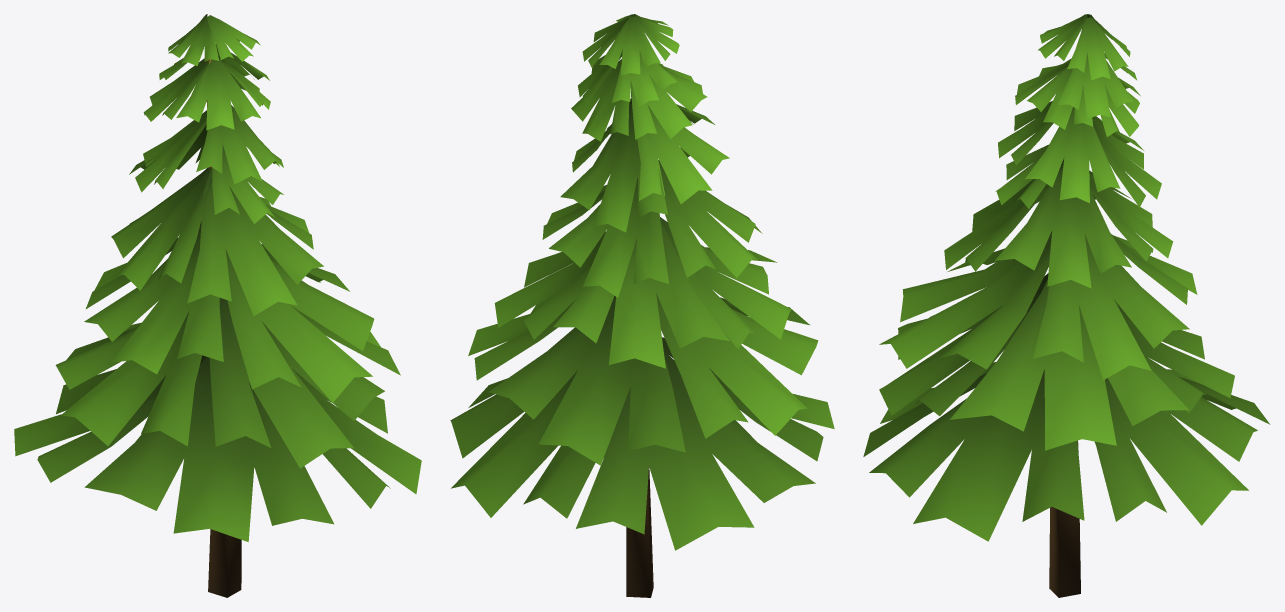
Rendered from pine03.fbx.
The picture shows the model from 3 angles, left to right: view 1: azimuth 30°, elevation 25°; view 2: azimuth 150°, elevation 25°; view 3: azimuth 270°, elevation 25°; orthographic projection. The views are drawn at different scales.
Visible parts, largest first — view 1: TreeV3; view 2: TreeV3; view 3: TreeV3.
Part boxes in pixels (x1=…): TreeV3: x1=14, y1=14, x2=421, y2=597; TreeV3: x1=450, y1=14, x2=834, y2=597; TreeV3: x1=863, y1=14, x2=1270, y2=597.
Size of the model in its own units: 642 by 1055 by 678.
